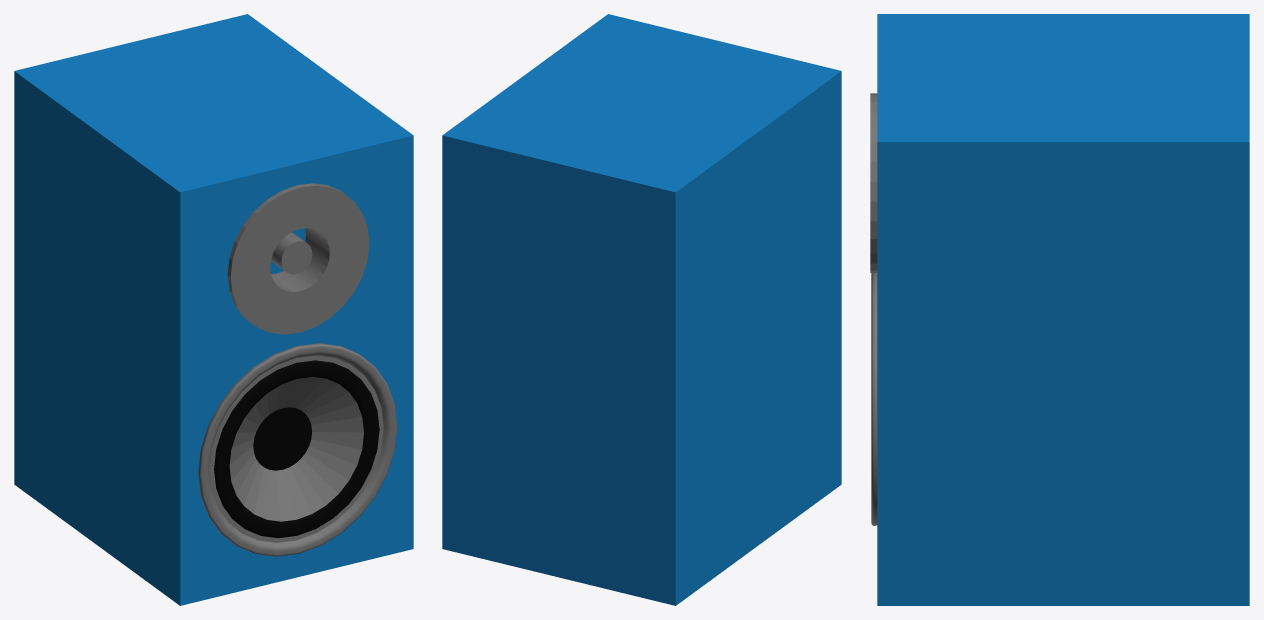
The model's file is 스피커_파2.FBX.
3 renders of one model, left to right at view 1: azimuth 30°, elevation 25°; view 2: azimuth 150°, elevation 25°; view 3: azimuth 270°, elevation 25°, orthographic. The views are drawn at different scales.
Parts seen in each view (by area): view 1: Box011, Circle033, Circle034; view 2: Box011; view 3: Box011, Circle033, Circle034.
Boxes of the visible parts, x1,y1,x2,y2 form: Box011: (14,14,413,605); Circle033: (198,343,397,556); Circle034: (227,183,369,334); Box011: (442,14,841,605); Box011: (877,14,1249,605); Circle033: (871,273,877,525); Circle034: (870,93,877,272).
Bounding box in the file's own units: 179 × 304 × 225.
